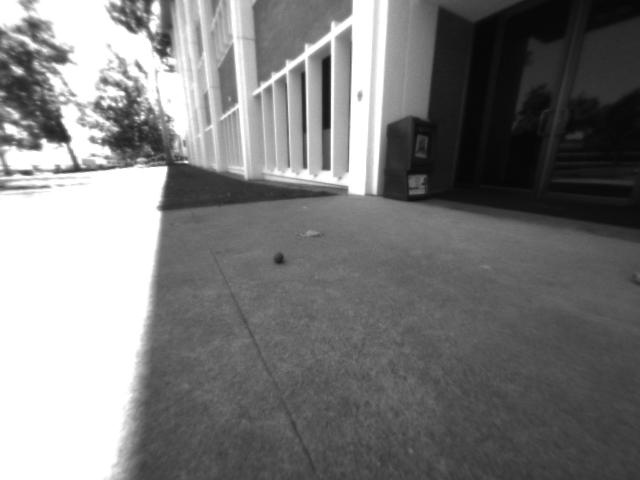dogtoy: (268, 246, 292, 269)
